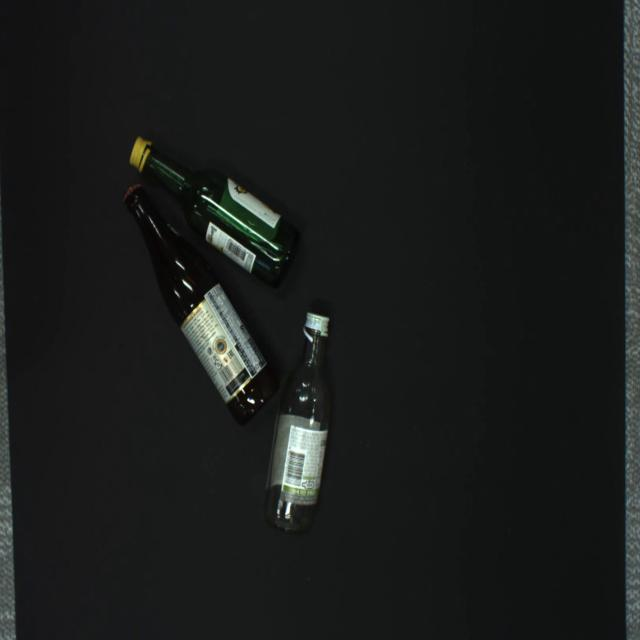beer-bottle: (124, 184, 280, 424)
soju-bottle: (130, 136, 299, 288), (264, 311, 331, 532)
